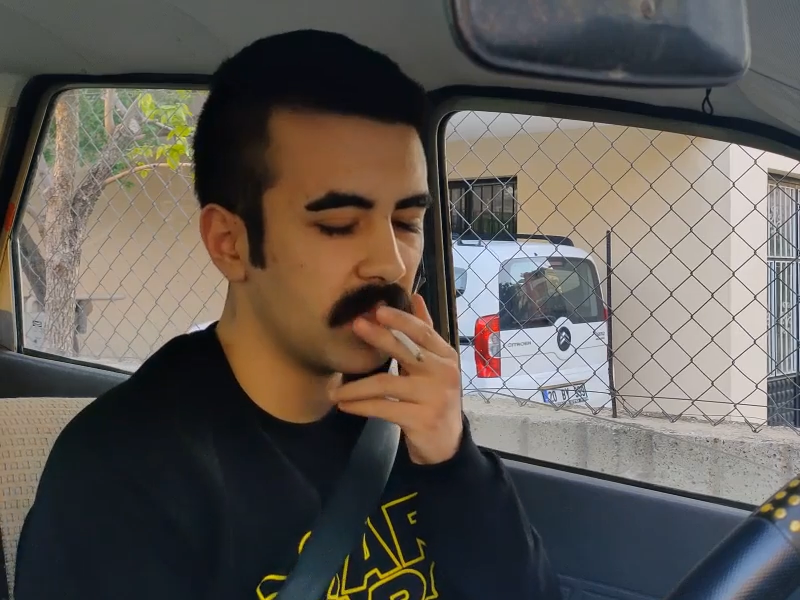sigara: (384, 322, 431, 367)
